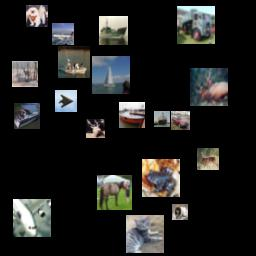airplane: (13, 199, 51, 237), (52, 23, 74, 45), (55, 90, 77, 112)
automobile: (171, 111, 190, 130)
cat: (126, 215, 164, 253)
deer: (190, 68, 228, 106), (12, 61, 38, 87), (197, 148, 219, 170), (86, 119, 105, 138)
dog: (26, 5, 48, 27), (172, 204, 188, 220)
frog: (142, 159, 180, 197)
ship: (92, 56, 130, 94), (58, 46, 90, 78), (99, 16, 128, 45), (119, 102, 145, 128), (14, 103, 40, 129), (154, 111, 170, 127)
truck: (177, 6, 215, 44)
